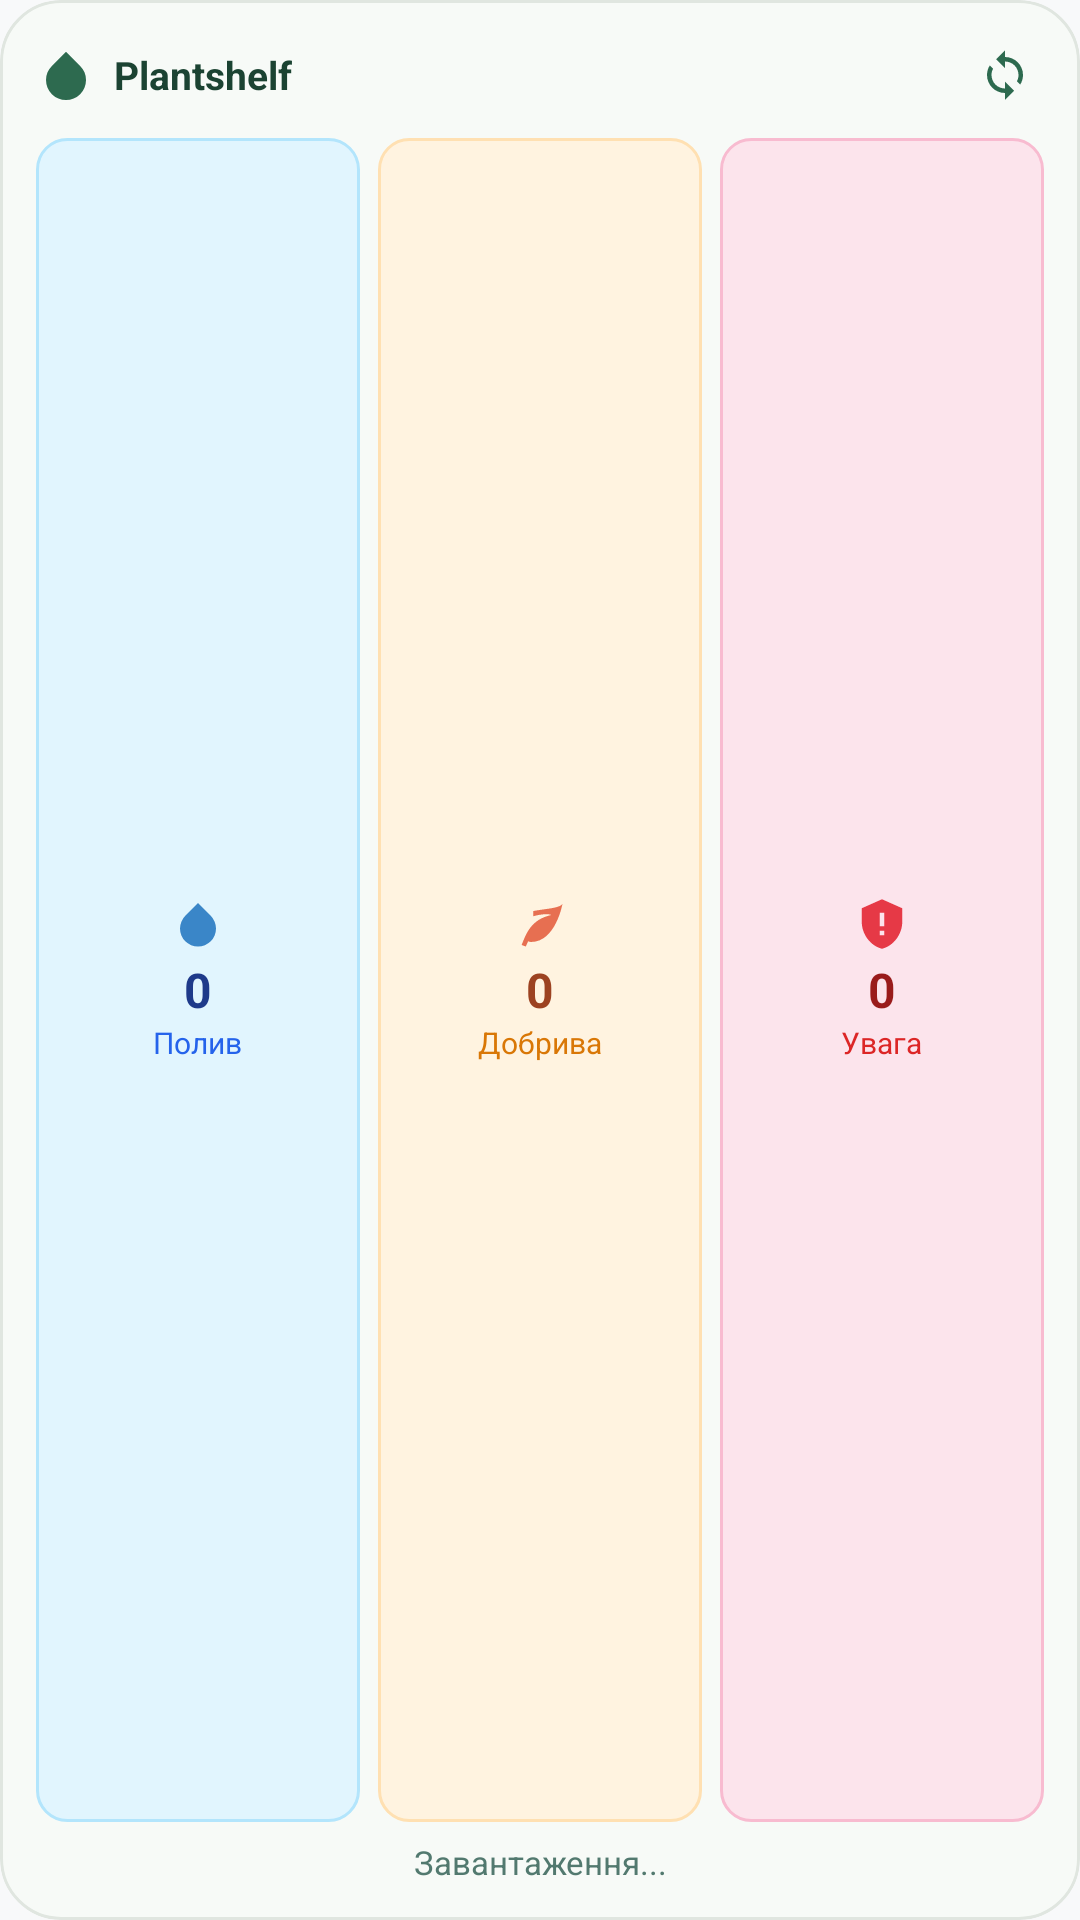

Icon click points for this 1080 × 1920 phone screenshot, format point (x, y):
fert: point (542, 925)
quarantine: point (882, 924)
water: point (66, 76), point (198, 925)
Оновити: point (1005, 75)
